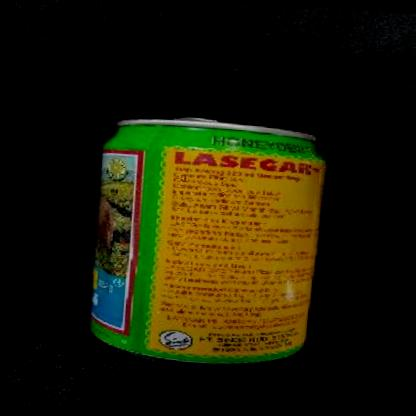alumunium_can: (87, 112, 330, 374)
